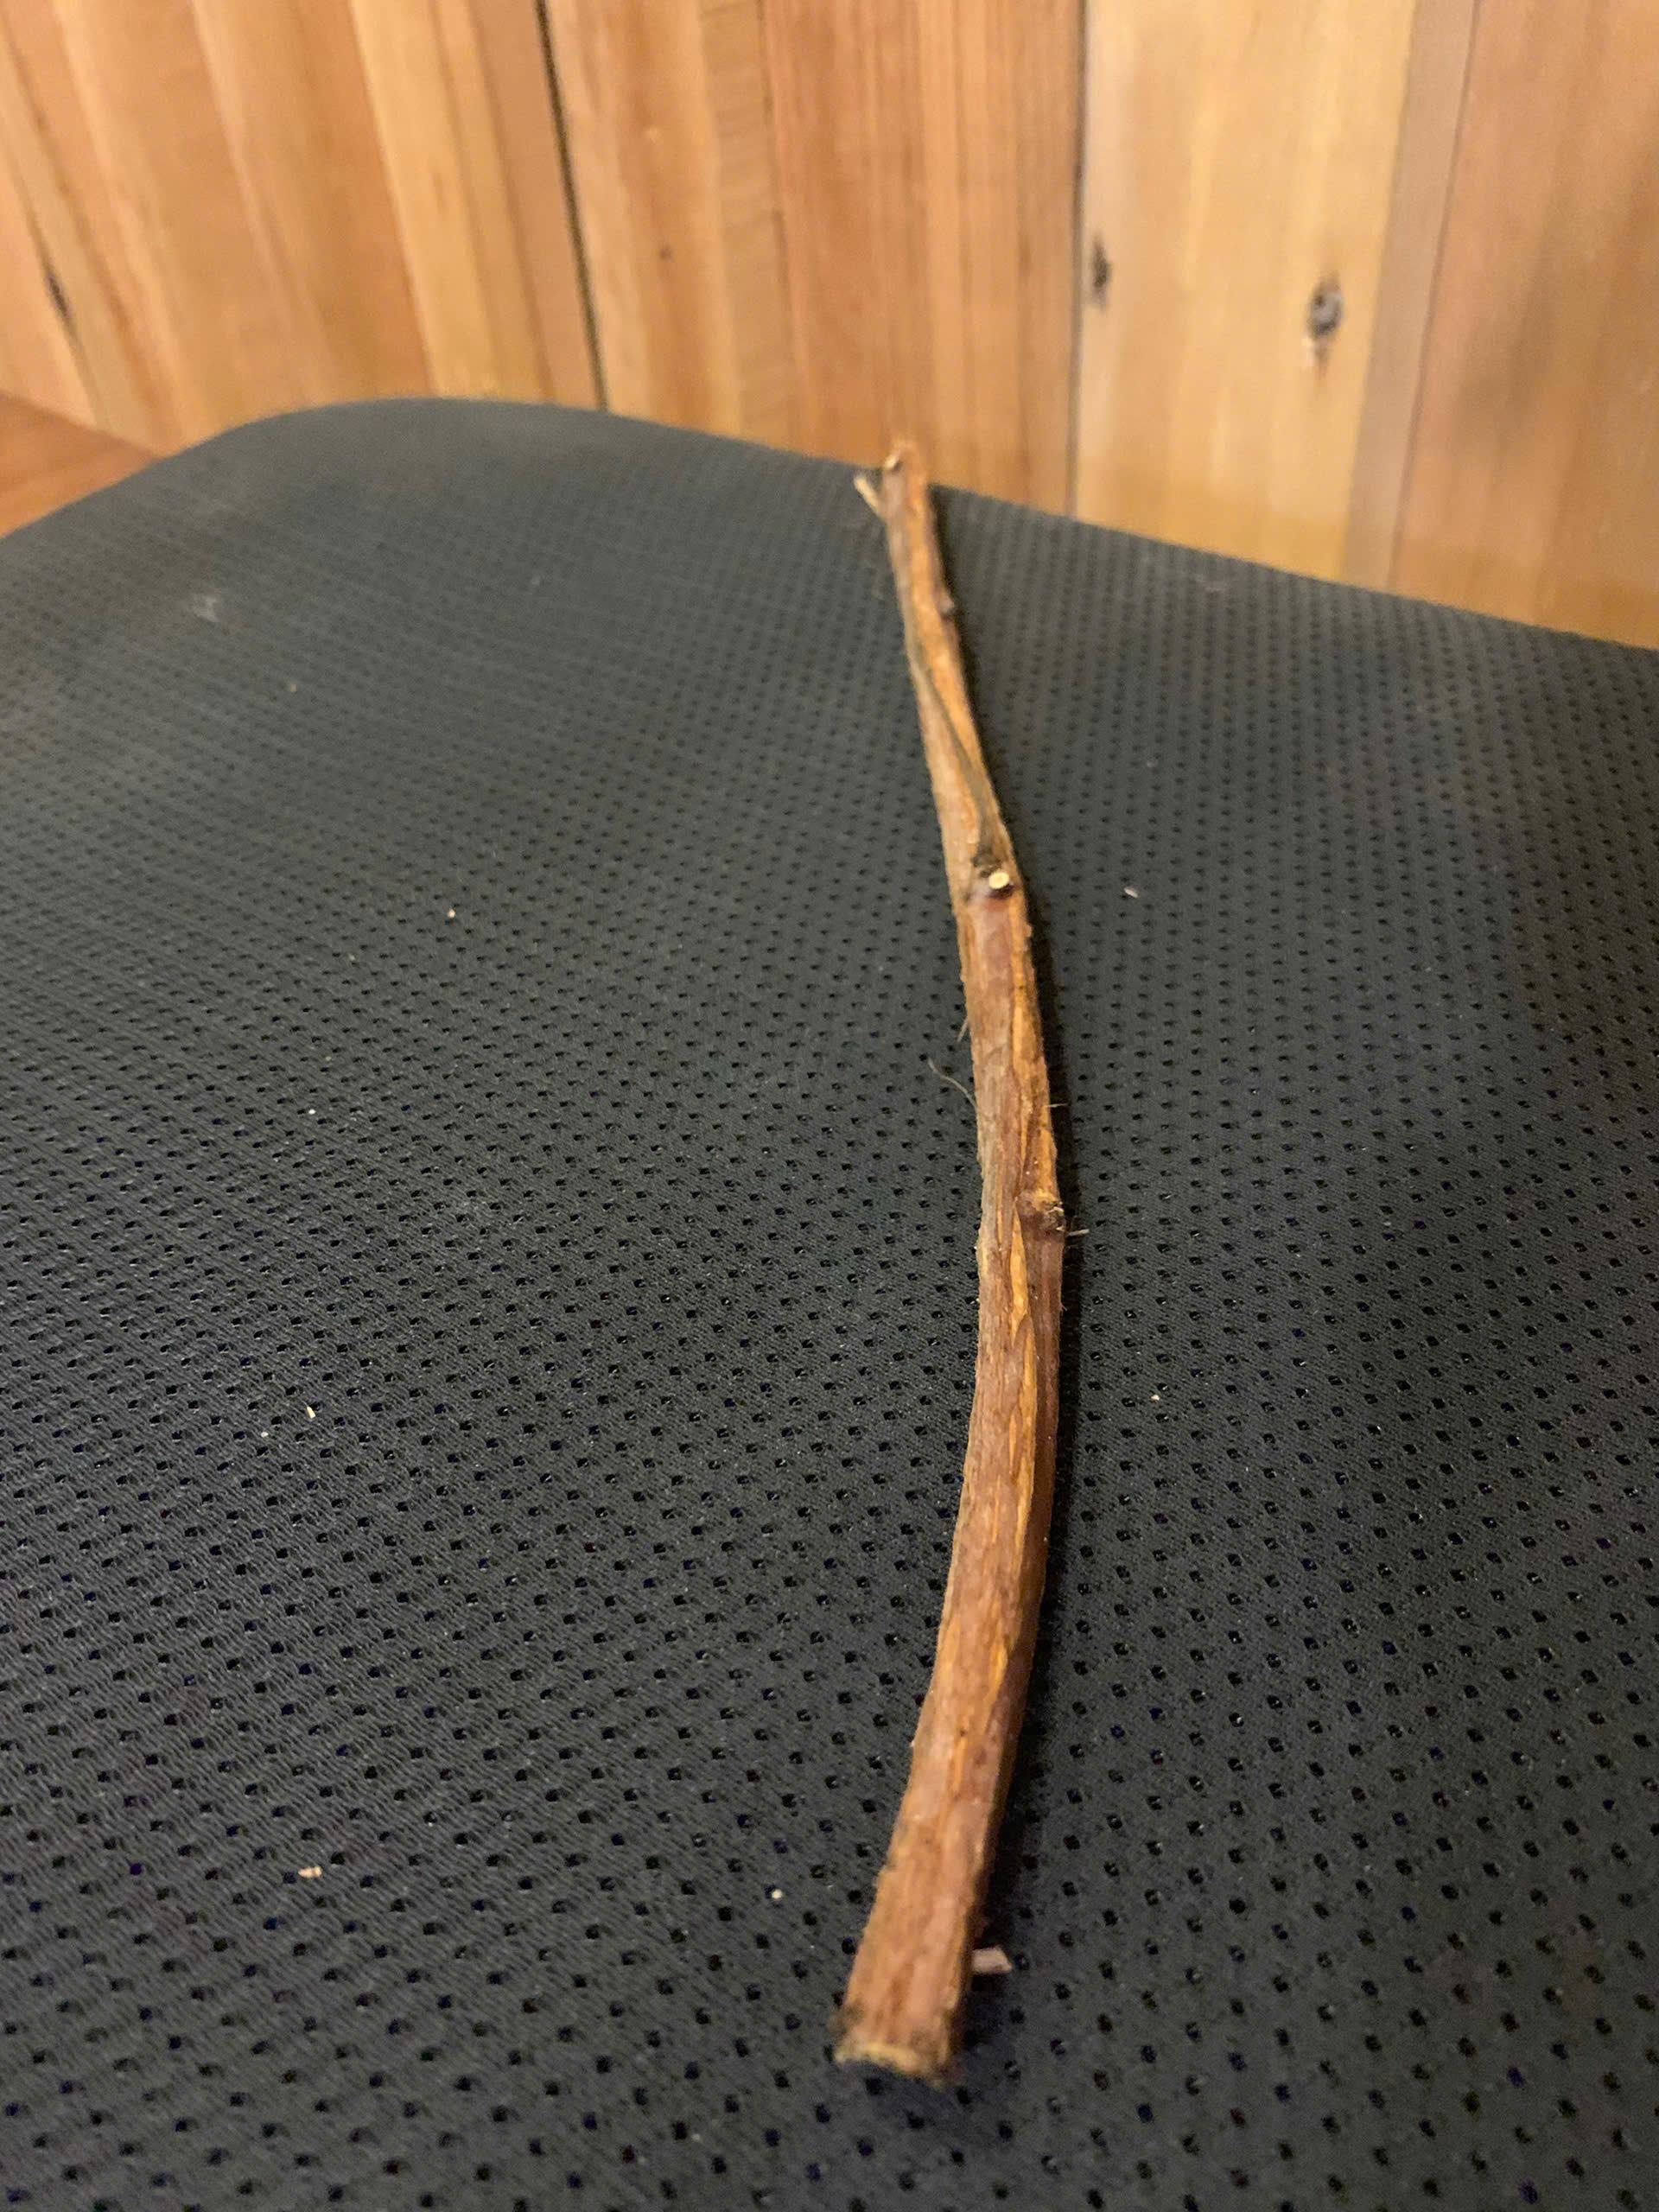Huu co: (842, 458, 1058, 2092)
